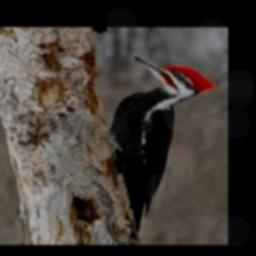Woodpecker: (109, 55, 216, 235)
